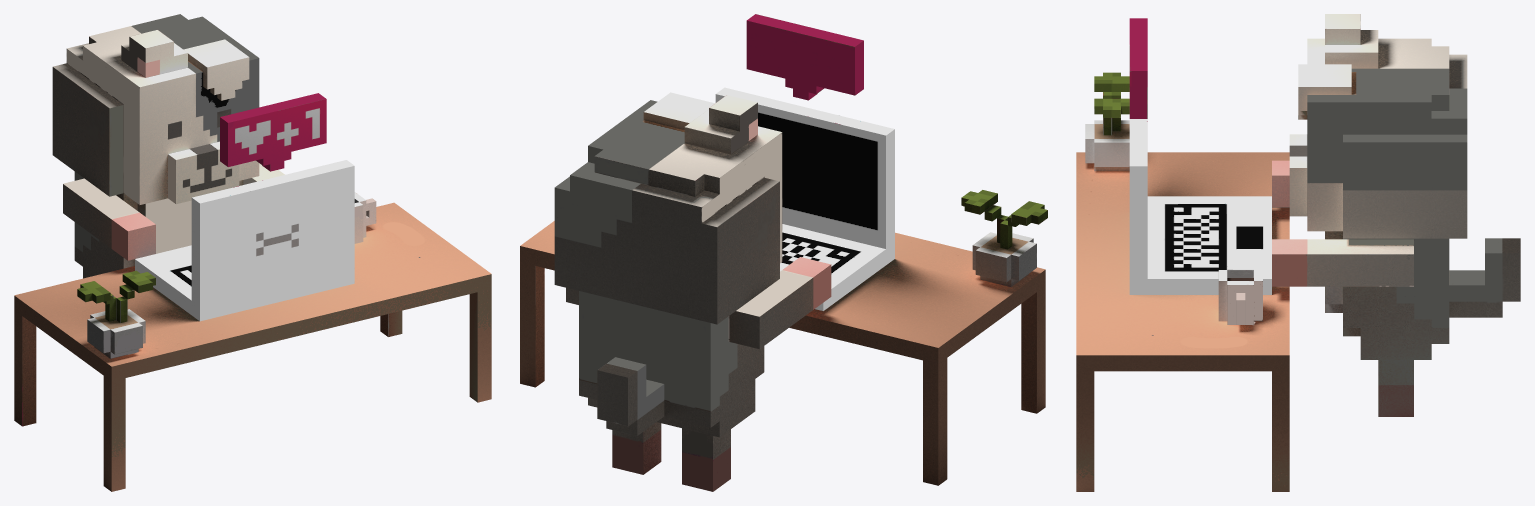
File: mozart-voxel.glb
3 views of the same model, side by side, from view 1: azimuth 30°, elevation 25°; view 2: azimuth 150°, elevation 25°; view 3: azimuth 270°, elevation 25° (orthographic). The views are drawn at different scales.
Parts seen in each view (by area): view 1: main; view 2: main; view 3: main.
Boxes of the visible parts, bbox=[...] form: main: bbox=[14, 14, 491, 491]; main: bbox=[520, 14, 1047, 491]; main: bbox=[1076, 14, 1520, 491].
Size of the model in its own units: 5.6 by 4.4 by 5.
Materials: 1 (1 with a texture image).
